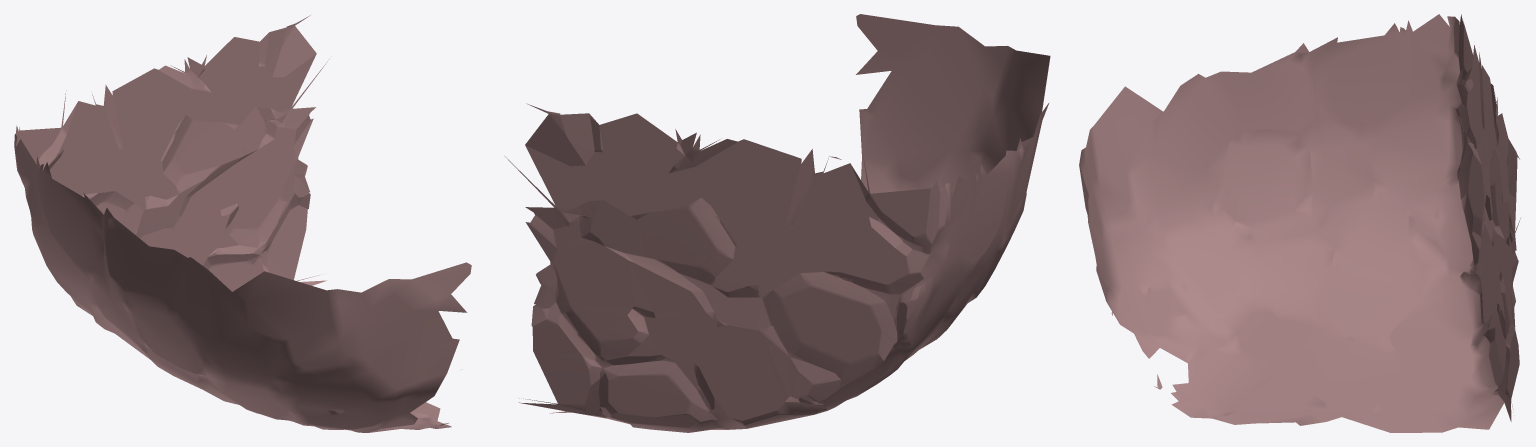
Rendered from canyon.fbx_PolyShape__3__011LODs.fbx.
The picture shows the model from 3 angles, left to right: view 1: azimuth 30°, elevation 25°; view 2: azimuth 150°, elevation 25°; view 3: azimuth 270°, elevation 25°; orthographic projection. The views are drawn at different scales.
Parts seen in each view (by area): view 1: PolyShape (3).011_LOD0; view 2: PolyShape (3).011_LOD0; view 3: PolyShape (3).011_LOD0.
Boxes of the visible parts, bbox=[...] form: PolyShape (3).011_LOD0: bbox=[14, 15, 471, 432]; PolyShape (3).011_LOD0: bbox=[505, 14, 1050, 432]; PolyShape (3).011_LOD0: bbox=[1079, 14, 1520, 432].
Size of what is drawn, in the model's own units: 4114 by 3247 by 4584.
